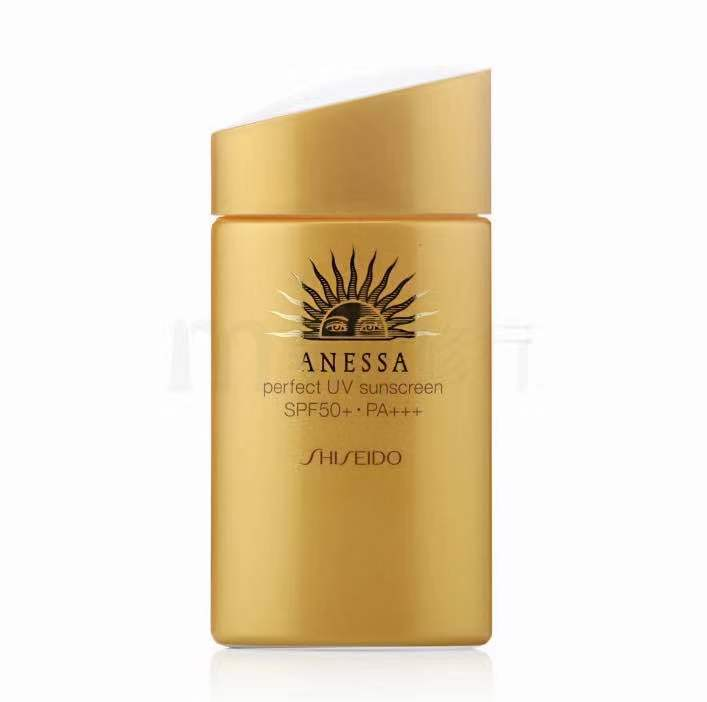cosmetic: (214, 52, 492, 644)
